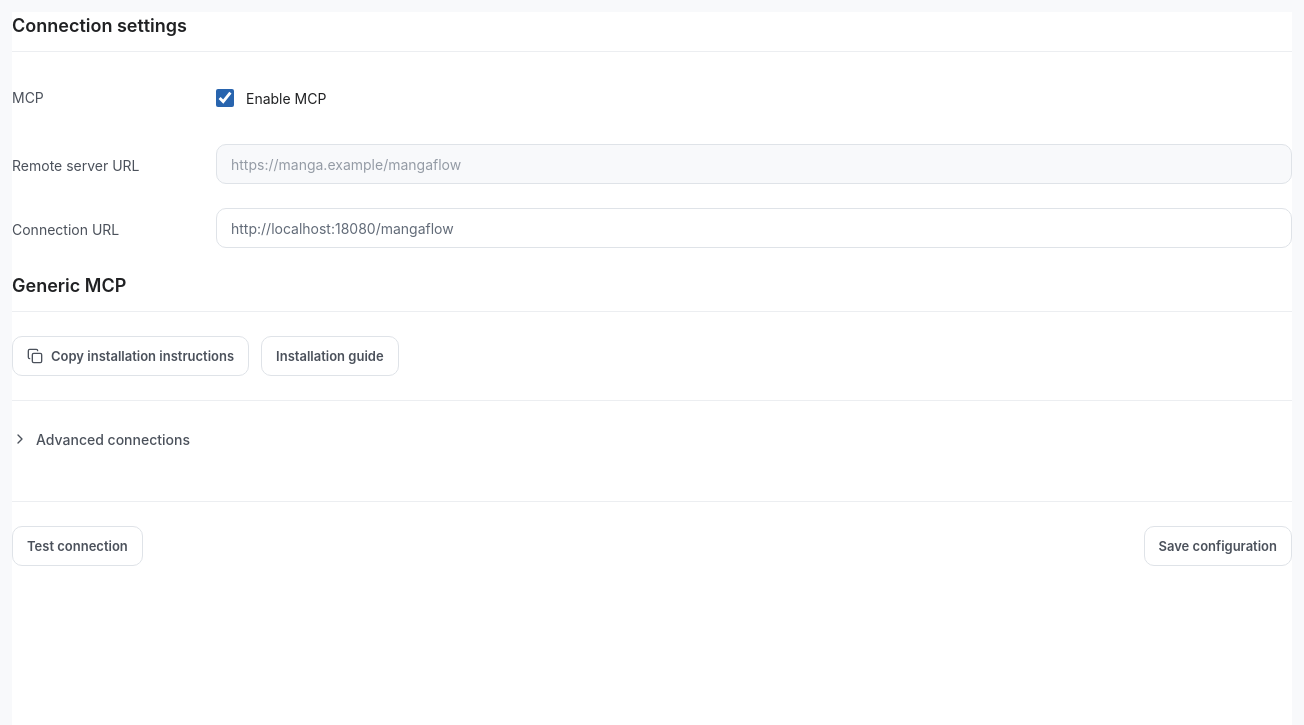
it: generic MCP settings › switches one advanced configuration panel and copies the selected transport
The image size is (1304, 725).
Expected: the field named "Connection URL" is shown, [216,208,1292,248]
Click the heading "Advanced connections". click: (101, 439)
box: [12,430,190,448]
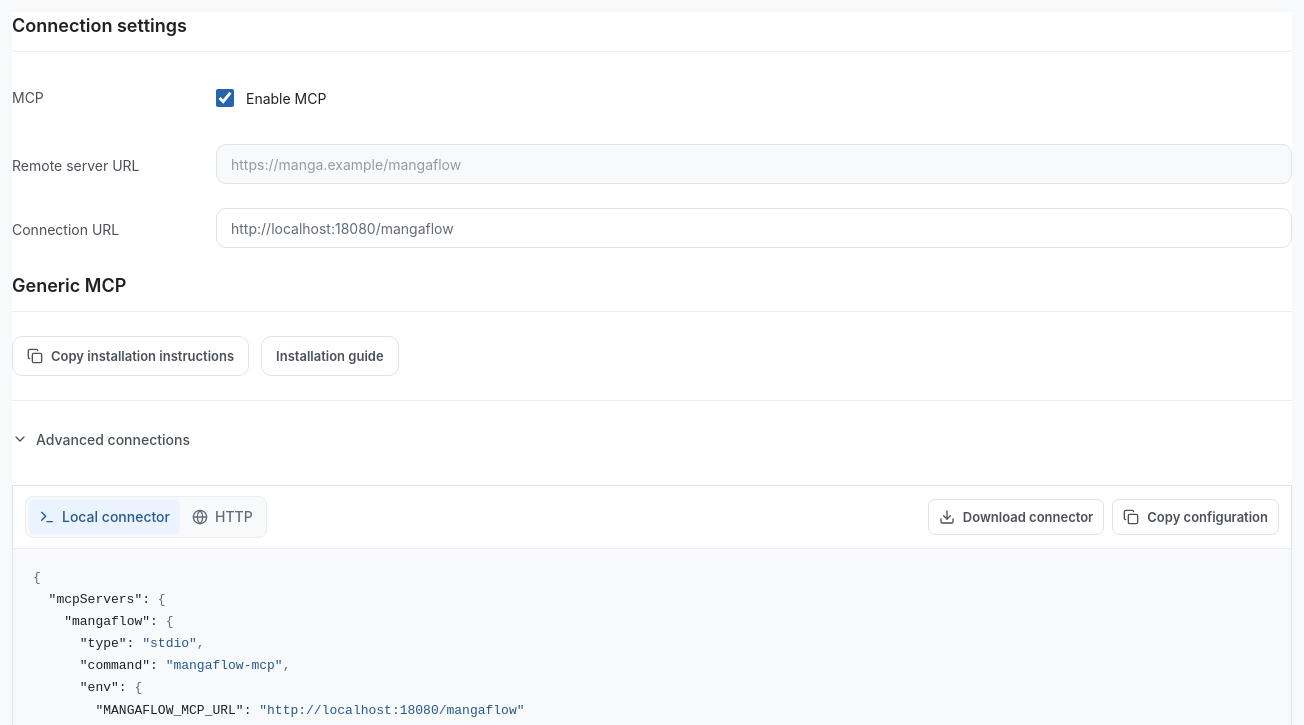
Now the link "Download connector" is shown, box [928,499,1104,535]
Press ArrowRight in the tab "Local connector", box [29,500,180,534]
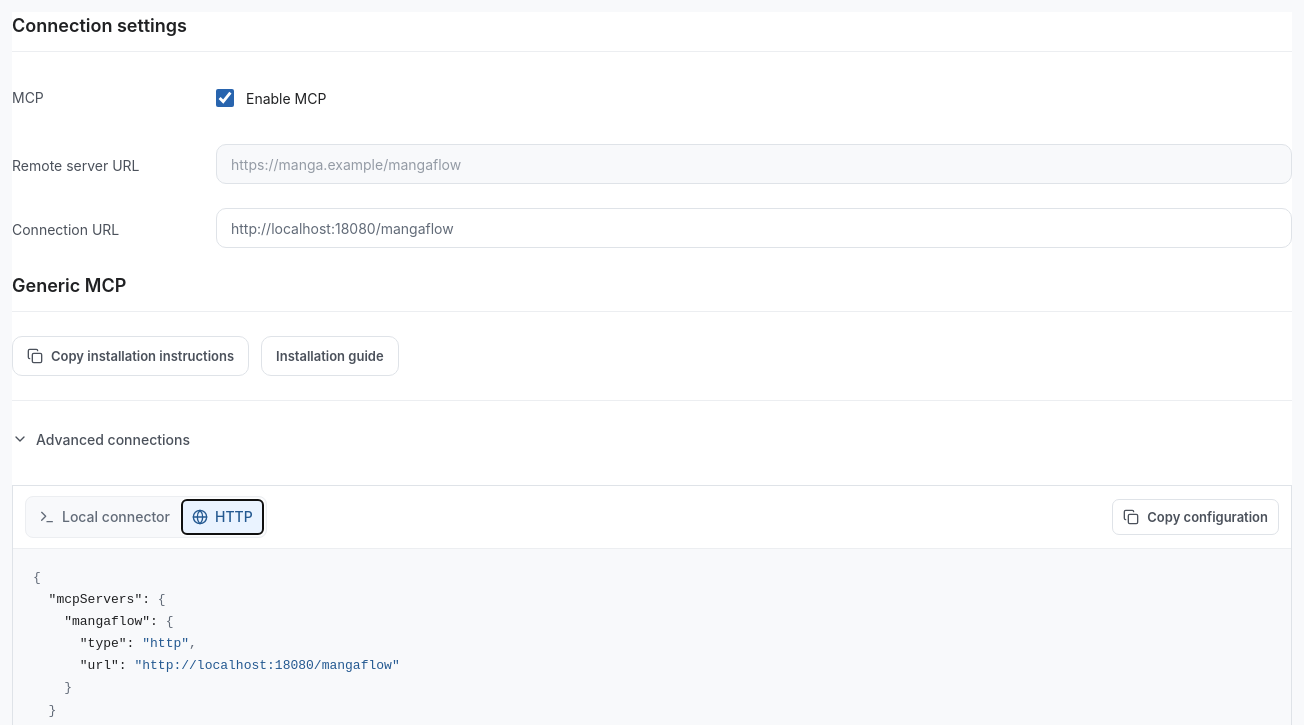
Now the link "Download connector" is gone
Click the button with aria-label "Copy HTTP configuration". click: (1196, 517)
box: [1112,499,1279,535]
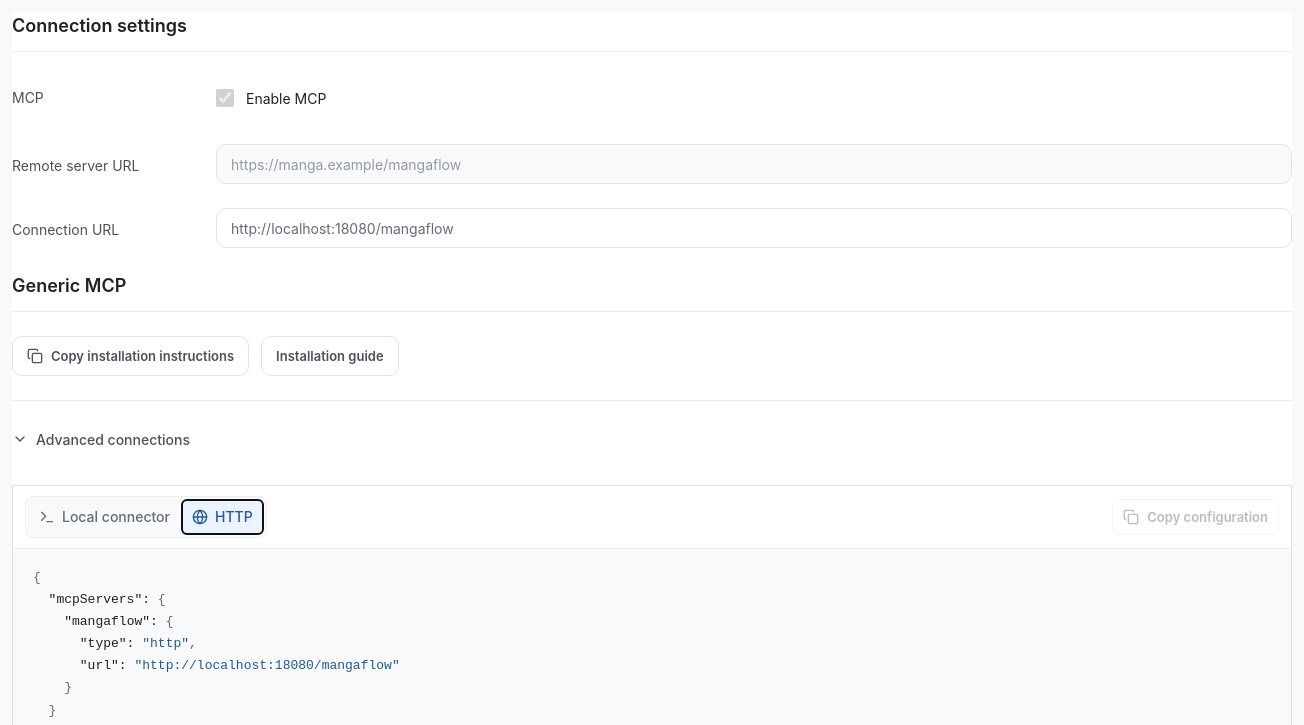
Press Home in the tab "HTTP", box [182,500,263,534]
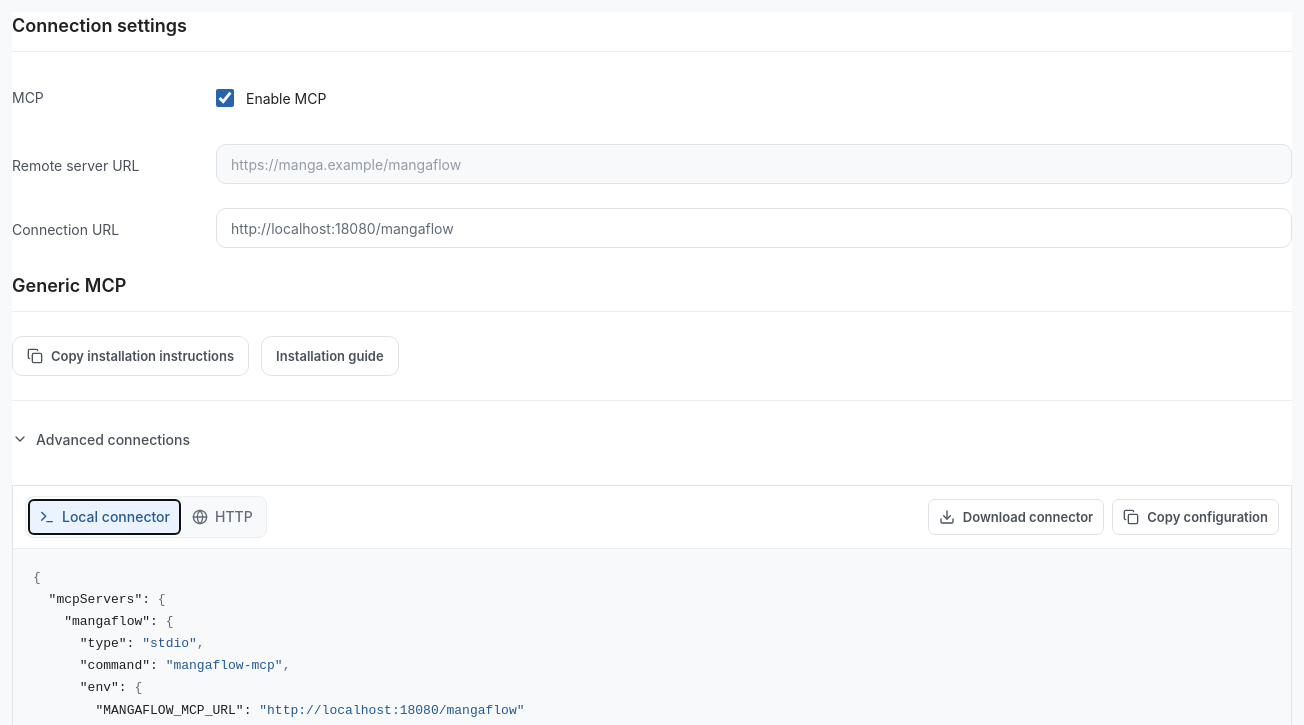
Now the link "Download connector" is shown, box [928,499,1104,535]
